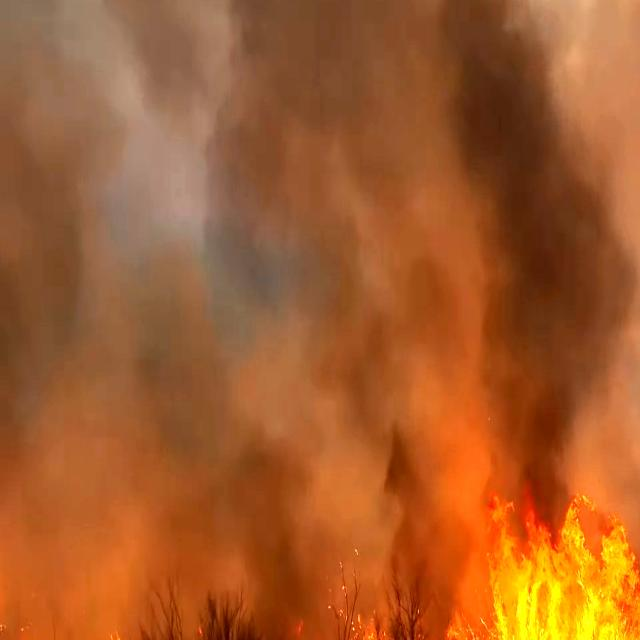fire: (441, 507, 640, 639)
smoke: (126, 0, 390, 600), (383, 0, 613, 476)
